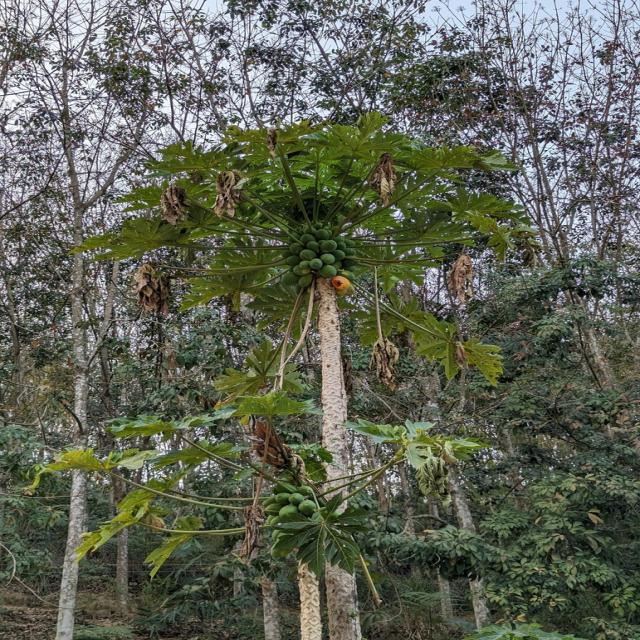Papaya-Tree: (108, 73, 482, 640)
